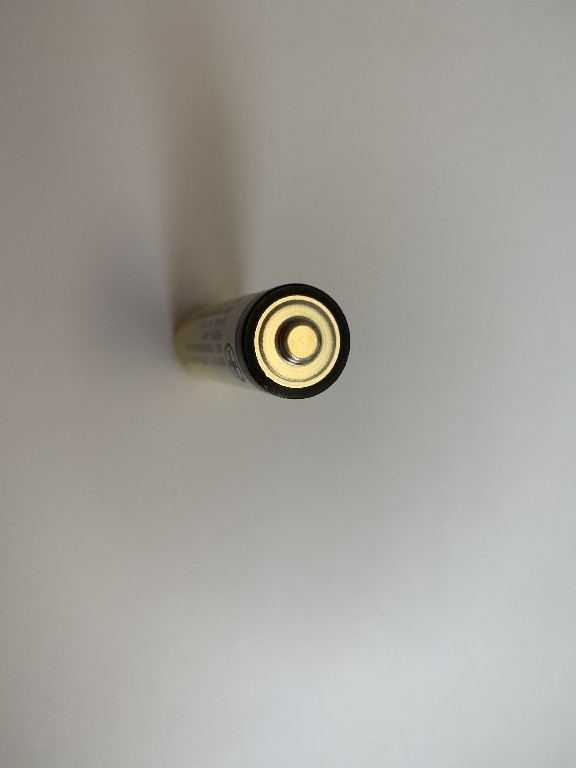charge: (169, 274, 355, 404)
